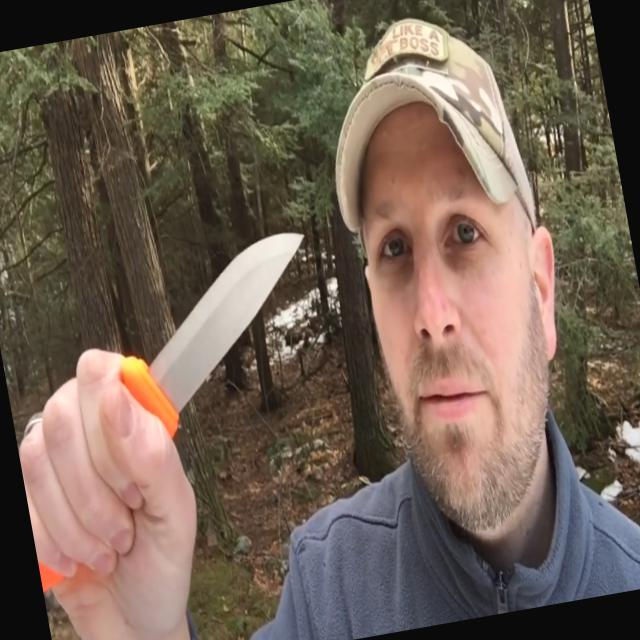knife: (22, 214, 361, 570)
